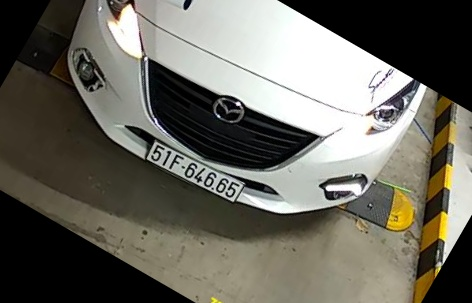plate: (137, 138, 250, 205)
